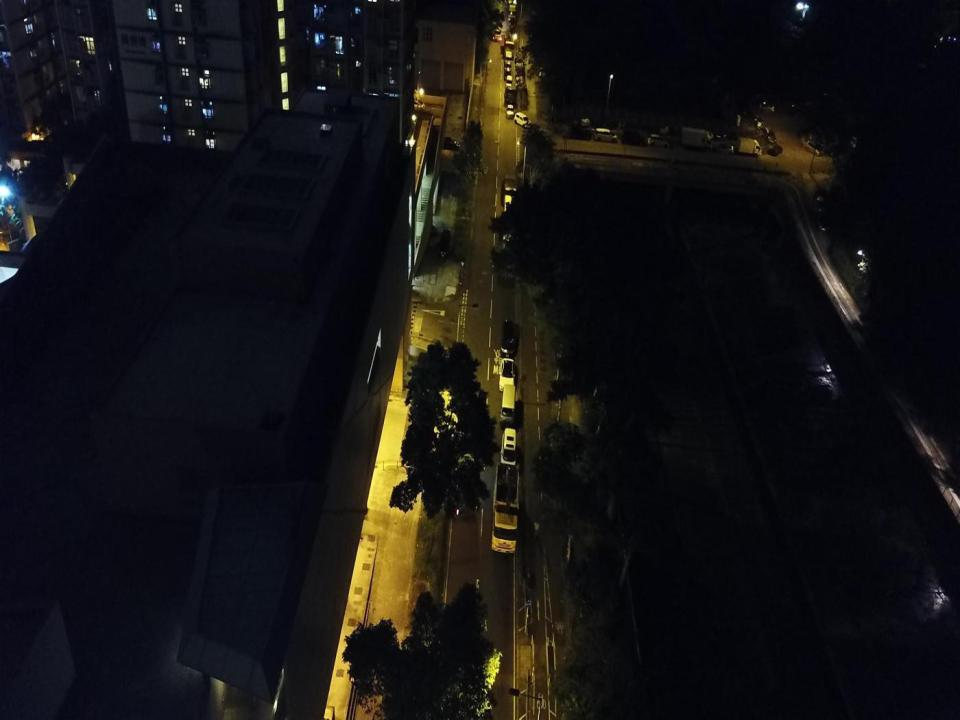bus: (745, 106, 765, 129)
car: (499, 426, 517, 468), (500, 317, 517, 358), (814, 196, 832, 231), (498, 358, 516, 391), (563, 123, 593, 141), (438, 229, 452, 258), (594, 127, 618, 143), (621, 130, 645, 145), (438, 135, 461, 150), (514, 111, 532, 128), (647, 134, 670, 147), (761, 126, 777, 144), (716, 141, 734, 156), (504, 86, 517, 106), (769, 144, 783, 156), (504, 59, 512, 76), (504, 75, 513, 89), (506, 103, 514, 118)
truck: (491, 463, 520, 554), (681, 125, 713, 151), (735, 137, 762, 158)
van: (498, 384, 516, 428), (805, 139, 824, 156), (504, 50, 512, 66)
